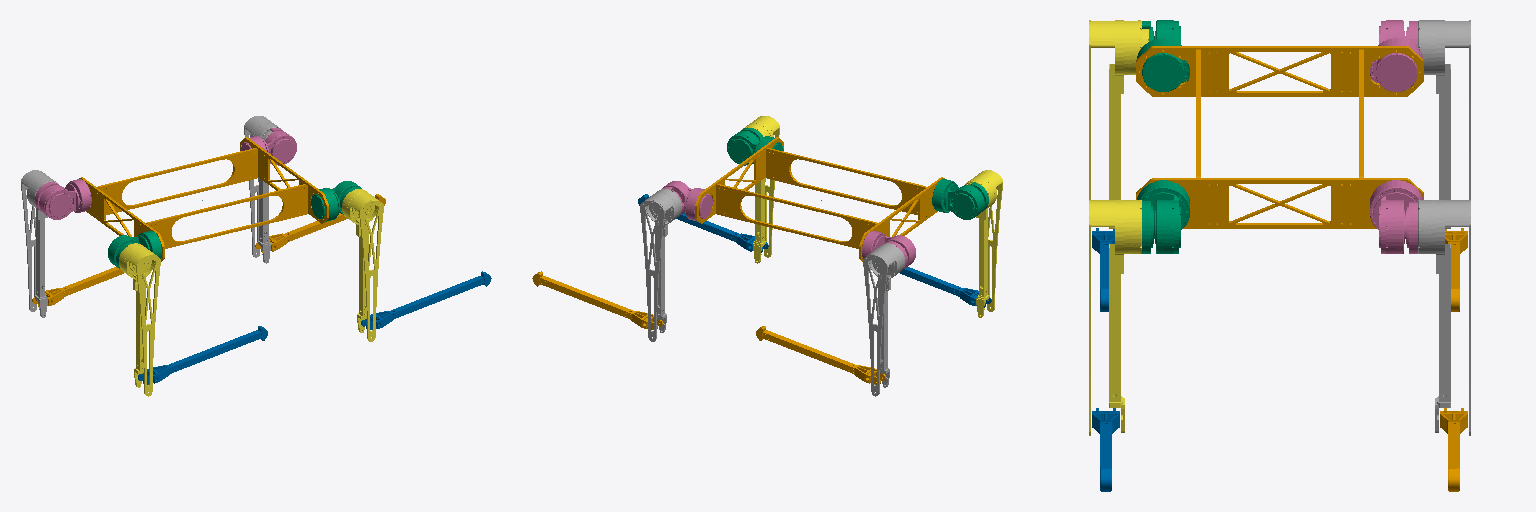
robot.urdf — arcdog:
<?xml version="1.0" ?>
<robot name="arcdog" xmlns:xacro="http://www.ros.org/wiki/xacro">
  <link name="trunk">
    <visual>
      <origin rpy="0 0 0" xyz="0 0 0"/>
      <geometry>
        <mesh filename="../meshes/trunk.stl" scale="1 1 1"/>
      </geometry>
      <material name=""/>
    </visual>
    <collision>
      <origin rpy="0 0 0" xyz="0 0 0"/>
      <geometry>
        <box size="0.752 0.413 0.2"/>
      </geometry>
    </collision>
    <inertial>
      <origin
        xyz="0 0 0"
        rpy="0 0 0" />
      <mass
        value="0.750396119433592" />
      <inertia
        ixx="0.00876892854588431"
        ixy="0"
        ixz="0"
        iyy="0.0157275456198964"
        iyz="0"
        izz="0.0229146761297559" />
    </inertial>
  </link>
  <joint name="imu_joint" type="fixed">
    <parent link="trunk"/>
    <child link="imu_link"/>
    <origin rpy="0 0 0" xyz="0 0 0"/>
  </joint>
  <link name="imu_link">
    <inertial>
      <mass value="0.001"/>
      <origin rpy="0 0 0" xyz="0 0 0"/>
      <inertia ixx="0.0001" ixy="0" ixz="0" iyy="0.000001" iyz="0" izz="0.0001"/>
    </inertial>
    <visual>
      <origin rpy="0 0 0" xyz="0 0 0"/>
      <geometry>
        <box size="0.001 0.001 0.001"/>
      </geometry>
      <material name="red"/>
    </visual>
    <collision>
      <origin rpy="0 0 0" xyz="0 0 0"/>
      <geometry>
        <box size=".001 .001 .001"/>
      </geometry>
    </collision>
  </link>
  <joint name="FR_hip_joint" type="revolute">
    <origin rpy="0 0 0" xyz="0.376 -0.2065 0"/>
    <parent link="trunk"/>
    <child link="FR_hip"/>
    <axis xyz="1 0 0"/>
    <dynamics damping="0" friction="0"/>
    <limit effort="44.4" lower="-1.2217304764" upper="1.2217304764" velocity="40"/>
  </joint>
  <link name="FR_hip">
    <visual>
      <origin rpy="0 0 0" xyz="-0.376 0.2065 0"/>
      <geometry>
        <mesh filename="../meshes/FR_hip.stl" scale="1 1 1"/>
      </geometry>
      <material name=""/>
    </visual>
    <collision>
      <origin rpy="1.57079632679 0 0" xyz="0 -0.1015 0"/>
      <geometry>
        <cylinder length="0.0418" radius="0.046"/>
      </geometry>
    </collision>
    <inertial>
      <origin rpy="0 0 0" xyz="-0.022191 -0.015144 -1.5e-05"/>
      <mass value="1.993"/>
      <inertia ixx="0.002903894" ixy="7.185e-05" ixz="-1.262e-06" iyy="0.004907517" iyz="1.75e-06" izz="0.005586944"/>
    </inertial>
  </link>
  <joint name="FR_upper_joint" type="revolute">
    <origin rpy="0 0 0" xyz="0 -0.1015 0"/>
    <parent link="FR_hip"/>
    <child link="FR_thigh"/>
    <axis xyz="0 1 0"/>
    <dynamics damping="0" friction="0"/>
    <limit effort="44.4" lower="-1.2217304764" upper="1.2217304764" velocity="40"/>
  </joint>
  <link name="FR_thigh">
    <visual>
      <origin rpy="0 0 0" xyz="-0.376 0.308 0"/>
      <geometry>
        <mesh filename="../meshes/FR_thigh.stl" scale="1 1 1"/>
      </geometry>
      <material name=""/>
    </visual>
    <collision>
      <origin rpy="0 1.57079632679 0" xyz="0 0 -0.125"/>
      <geometry>
        <box size="0.3645 0.0374 0.043"/>
      </geometry>
    </collision>
    <inertial>
      <origin rpy="0 0 0" xyz="-0.005607 0.003877 -0.048199"/>
      <mass value="0.639"/>
      <inertia ixx="0.005666803" ixy="-3.597e-06" ixz="0.000491446" iyy="0.005847229" iyz="-1.0086e-05" izz="0.000369811"/>
    </inertial>
  </link>
  <joint name="FR_lower_joint" type="revolute">
    <origin rpy="0 0 0" xyz="0 0 -0.3645"/>
    <parent link="FR_thigh"/>
    <child link="FR_calf"/>
    <axis xyz="0 1 0"/>
    <dynamics damping="0" friction="0"/>
    <limit effort="44.4" lower="-2.77507351067" upper="-0.645771823238" velocity="40"/>
  </joint>
  <link name="FR_calf">
    <visual>
      <origin rpy="0 0 0" xyz="-0.376 0.308 0.3645"/>
      <geometry>
        <mesh filename="../meshes/FR_calf.stl" scale="1 1 1"/>
      </geometry>
      <material name=""/>
    </visual>
    <collision>
      <origin rpy="0 1.57079632679 0" xyz="0 0 -0.125"/>
      <geometry>
        <box size="0.3645 0.0208 0.016"/>
      </geometry>
    </collision>
    <inertial>
      <origin rpy="0 0 0" xyz="0.002781 6.3e-05 -0.142518"/>
      <mass value="0.207"/>
      <inertia ixx="0.006341369" ixy="-3e-09" ixz="-8.7951e-05" iyy="0.006355157" iyz="-1.336e-06" izz="3.9188e-05"/>
    </inertial>
  </link>
  <joint name="FR_toe_fixed" type="fixed">
    <origin rpy="0 0 0" xyz="0 0 -0.4"/>
    <parent link="FR_calf"/>
    <child link="FR_foot"/>
  </joint>
  <link name="FR_foot">
    <visual>
      <origin rpy="0 0 0" xyz="0 0 0"/>
      <geometry>
        <sphere radius=".001"/>
      </geometry>
      <material name="green"/>
    </visual>
    <collision>
      <origin rpy="0 0 0" xyz="0 0 0"/>
      <geometry>
        <sphere radius="0.0165"/>
        <!-- <box size="0.0165 0.0165 0.0165"/> -->
      </geometry>
    </collision>
    <inertial>
      <mass value="0.06"/>
      <inertia ixx="1.6854e-05" ixy="0.0" ixz="0.0" iyy="1.6854e-05" iyz="0.0" izz="1.6854e-05"/>
    </inertial>
  </link>
  <transmission name="FR_hip_tran">
    <type>transmission_interface/SimpleTransmission</type>
    <joint name="FR_hip_joint">
      <hardwareInterface>hardware_interface/EffortJointInterface</hardwareInterface>
    </joint>
    <actuator name="FR_hip_motor">
      <hardwareInterface>hardware_interface/EffortJointInterface</hardwareInterface>
      <mechanicalReduction>1</mechanicalReduction>
    </actuator>
  </transmission>
  <transmission name="FR_thigh_tran">
    <type>transmission_interface/SimpleTransmission</type>
    <joint name="FR_upper_joint">
      <hardwareInterface>hardware_interface/EffortJointInterface</hardwareInterface>
    </joint>
    <actuator name="FR_thigh_motor">
      <hardwareInterface>hardware_interface/EffortJointInterface</hardwareInterface>
      <mechanicalReduction>1</mechanicalReduction>
    </actuator>
  </transmission>
  <transmission name="FR_calf_tran">
    <type>transmission_interface/SimpleTransmission</type>
    <joint name="FR_lower_joint">
      <hardwareInterface>hardware_interface/EffortJointInterface</hardwareInterface>
    </joint>
    <actuator name="FR_calf_motor">
      <hardwareInterface>hardware_interface/EffortJointInterface</hardwareInterface>
      <mechanicalReduction>1</mechanicalReduction>
    </actuator>
  </transmission>
  <joint name="FL_hip_joint" type="revolute">
    <origin rpy="0 0 0" xyz="0.376 0.2065 0"/>
    <parent link="trunk"/>
    <child link="FL_hip"/>
    <axis xyz="1 0 0"/>
    <dynamics damping="0" friction="0"/>
    <limit effort="44.4" lower="-1.2217304764" upper="1.2217304764" velocity="40"/>
  </joint>
  <link name="FL_hip">
    <visual>
      <origin rpy="0 0 0" xyz="-0.376 -0.2065 0"/>
      <geometry>
        <mesh filename="../meshes/FL_hip.stl" scale="1 1 1"/>
      </geometry>
      <material name=""/>
    </visual>
    <collision>
      <origin rpy="1.57079632679 0 0" xyz="0 0.1015 0"/>
      <geometry>
        <cylinder length="0.0418" radius="0.046"/>
      </geometry>
    </collision>
    <inertial>
      <origin rpy="0 0 0" xyz="-0.022191 0.015144 -1.5e-05"/>
      <mass value="1.993"/>
      <inertia ixx="0.002903894" ixy="-7.185e-05" ixz="-1.262e-06" iyy="0.004907517" iyz="-1.75e-06" izz="0.005586944"/>
    </inertial>
  </link>
  <joint name="FL_upper_joint" type="revolute">
    <origin rpy="0 0 0" xyz="0 0.1015 0"/>
    <parent link="FL_hip"/>
    <child link="FL_thigh"/>
    <axis xyz="0 1 0"/>
    <dynamics damping="0" friction="0"/>
    <limit effort="44.4" lower="-1.2217304764" upper="1.2217304764" velocity="40"/>
  </joint>
  <link name="FL_thigh">
    <visual>
      <origin rpy="0 0 0" xyz="-0.376 -0.308 0"/>
      <geometry>
        <mesh filename="../meshes/FL_thigh.stl" scale="1 1 1"/>
      </geometry>
      <material name=""/>
    </visual>
    <collision>
      <origin rpy="0 1.57079632679 0" xyz="0 0 -0.125"/>
      <geometry>
        <box size="0.3645 0.0374 0.043"/>
      </geometry>
    </collision>
    <inertial>
      <origin rpy="0 0 0" xyz="-0.005607 -0.003877 -0.048199"/>
      <mass value="0.639"/>
      <inertia ixx="0.005666803" ixy="3.597e-06" ixz="0.000491446" iyy="0.005847229" iyz="1.0086e-05" izz="0.000369811"/>
    </inertial>
  </link>
  <joint name="FL_lower_joint" type="revolute">
    <origin rpy="0 0 0" xyz="0 0 -0.3645"/>
    <parent link="FL_thigh"/>
    <child link="FL_calf"/>
    <axis xyz="0 1 0"/>
    <dynamics damping="0" friction="0"/>
    <limit effort="44.4" lower="-2.77507351067" upper="-0.645771823238" velocity="40"/>
  </joint>
  <link name="FL_calf">
    <visual>
      <origin rpy="0 0 0" xyz="-0.376 -0.308 0.3645"/>
      <geometry>
        <mesh filename="../meshes/FL_calf.stl" scale="1 1 1"/>
      </geometry>
      <material name=""/>
    </visual>
    <collision>
      <origin rpy="0 1.57079632679 0" xyz="0 0 -0.125"/>
      <geometry>
        <box size="0.3645 0.0208 0.016"/>
      </geometry>
    </collision>
    <inertial>
      <origin rpy="0 0 0" xyz="0.002781 6.3e-05 -0.142518"/>
      <mass value="0.207"/>
      <inertia ixx="0.006341369" ixy="-3e-09" ixz="-8.7951e-05" iyy="0.006355157" iyz="-1.336e-06" izz="3.9188e-05"/>
    </inertial>
  </link>
  <joint name="FL_toe_fixed" type="fixed">
    <origin rpy="0 0 0" xyz="0 0 -0.4"/>
    <parent link="FL_calf"/>
    <child link="FL_foot"/>
  </joint>
  <link name="FL_foot">
    <visual>
      <origin rpy="0 0 0" xyz="0 0 0"/>
      <geometry>
        <sphere radius=".001"/>
      </geometry>
      <material name="green"/>
    </visual>
    <collision>
      <origin rpy="0 0 0" xyz="0 0 0"/>
      <geometry>
        <sphere radius="0.0165"/>
        <!-- <box size="0.0165 0.0165 0.0165"/>         -->
      </geometry>
    </collision>
    <inertial>
      <mass value="0.06"/>
      <inertia ixx="1.6854e-05" ixy="0.0" ixz="0.0" iyy="1.6854e-05" iyz="0.0" izz="1.6854e-05"/>
    </inertial>
  </link>
  <transmission name="FL_hip_tran">
    <type>transmission_interface/SimpleTransmission</type>
    <joint name="FL_hip_joint">
      <hardwareInterface>hardware_interface/EffortJointInterface</hardwareInterface>
    </joint>
    <actuator name="FL_hip_motor">
      <hardwareInterface>hardware_interface/EffortJointInterface</hardwareInterface>
      <mechanicalReduction>1</mechanicalReduction>
    </actuator>
  </transmission>
  <transmission name="FL_thigh_tran">
    <type>transmission_interface/SimpleTransmission</type>
    <joint name="FL_upper_joint">
      <hardwareInterface>hardware_interface/EffortJointInterface</hardwareInterface>
    </joint>
    <actuator name="FL_thigh_motor">
      <hardwareInterface>hardware_interface/EffortJointInterface</hardwareInterface>
      <mechanicalReduction>1</mechanicalReduction>
    </actuator>
  </transmission>
  <transmission name="FL_calf_tran">
    <type>transmission_interface/SimpleTransmission</type>
    <joint name="FL_lower_joint">
      <hardwareInterface>hardware_interface/EffortJointInterface</hardwareInterface>
    </joint>
    <actuator name="FL_calf_motor">
      <hardwareInterface>hardware_interface/EffortJointInterface</hardwareInterface>
      <mechanicalReduction>1</mechanicalReduction>
    </actuator>
  </transmission>
  <joint name="RR_hip_joint" type="revolute">
    <origin rpy="0 0 0" xyz="-0.376 -0.2065 0"/>
    <parent link="trunk"/>
    <child link="RR_hip"/>
    <axis xyz="1 0 0"/>
    <dynamics damping="0" friction="0"/>
    <limit effort="44.4" lower="-1.2217304764" upper="1.2217304764" velocity="40"/>
  </joint>
  <link name="RR_hip">
    <visual>
      <origin rpy="0 0 0" xyz="0.376 0.2065 0"/>
      <geometry>
        <mesh filename="../meshes/RR_hip.stl" scale="1 1 1"/>
      </geometry>
      <material name=""/>
    </visual>
    <collision>
      <origin rpy="1.57079632679 0 0" xyz="0 -0.1015 0"/>
      <geometry>
        <cylinder length="0.0418" radius="0.046"/>
      </geometry>
    </collision>
    <inertial>
      <origin rpy="0 0 0" xyz="0.022191 -0.015144 -1.5e-05"/>
      <mass value="1.993"/>
      <inertia ixx="0.002903894" ixy="-7.185e-05" ixz="1.262e-06" iyy="0.004907517" iyz="1.75e-06" izz="0.005586944"/>
    </inertial>
  </link>
  <joint name="RR_upper_joint" type="revolute">
    <origin rpy="0 0 0" xyz="0 -0.1015 0"/>
    <parent link="RR_hip"/>
    <child link="RR_thigh"/>
    <axis xyz="0 1 0"/>
    <dynamics damping="0" friction="0"/>
    <limit effort="44.4" velocity="40" lower="-1.2217304764" upper="1.2217304764"/>
  </joint>
  <link name="RR_thigh">
    <visual>
      <origin rpy="0 0 0" xyz="0.376 0.308 0"/>
      <geometry>
        <mesh filename="../meshes/RR_thigh.stl" scale="1 1 1"/>
      </geometry>
      <material name=""/>
    </visual>
    <collision>
      <origin rpy="0 1.57079632679 0" xyz="0 0 -0.125"/>
      <geometry>
        <box size="0.3645 0.0374 0.043"/>
      </geometry>
    </collision>
    <inertial>
      <origin rpy="0 0 0" xyz="-0.005607 0.003877 -0.048199"/>
      <mass value="0.639"/>
      <inertia ixx="0.005666803" ixy="-3.597e-06" ixz="0.000491446" iyy="0.005847229" iyz="-1.0086e-05" izz="0.000369811"/>
    </inertial>
  </link>
  <joint name="RR_lower_joint" type="revolute">
    <origin rpy="0 0 0" xyz="0 0 -0.3645"/>
    <parent link="RR_thigh"/>
    <child link="RR_calf"/>
    <axis xyz="0 1 0"/>
    <dynamics damping="0" friction="0"/>
    <limit effort="44.4" lower="-2.77507351067" upper="-0.645771823238" velocity="40"/>
  </joint>
  <link name="RR_calf">
    <visual>
      <origin rpy="0 0 0" xyz="0.376 0.308 0.3645"/>
      <geometry>
        <mesh filename="../meshes/RR_calf.stl" scale="1 1 1"/>
      </geometry>
      <material name=""/>
    </visual>
    <collision>
      <origin rpy="0 1.57079632679 0" xyz="0 0 -0.125"/>
      <geometry>
        <box size="0.3645 0.0208 0.016"/>
      </geometry>
    </collision>
    <inertial>
      <origin rpy="0 0 0" xyz="0.002781 6.3e-05 -0.142518"/>
      <mass value="0.207"/>
      <inertia ixx="0.006341369" ixy="-3e-09" ixz="-8.7951e-05" iyy="0.006355157" iyz="-1.336e-06" izz="3.9188e-05"/>
    </inertial>
  </link>
  <joint name="RR_toe_fixed" type="fixed">
    <origin rpy="0 0 0" xyz="0 0 -0.4"/>
    <parent link="RR_calf"/>
    <child link="RR_foot"/>
  </joint>
  <link name="RR_foot">
    <visual>
      <origin rpy="0 0 0" xyz="0 0 0"/>
      <geometry>
        <sphere radius=".001"/>
      </geometry>
      <material name="green"/>
    </visual>
    <collision>
      <origin rpy="0 0 0" xyz="0 0 0"/>
      <geometry>
        <sphere radius="0.0165"/>
        <!-- <box size="0.0165 0.0165 0.0165"/>         -->
      </geometry>
    </collision>
    <inertial>
      <mass value="0.06"/>
      <inertia ixx="1.6854e-05" ixy="0.0" ixz="0.0" iyy="1.6854e-05" iyz="0.0" izz="1.6854e-05"/>
    </inertial>
  </link>
  <transmission name="RR_hip_tran">
    <type>transmission_interface/SimpleTransmission</type>
    <joint name="RR_hip_joint">
      <hardwareInterface>hardware_interface/EffortJointInterface</hardwareInterface>
    </joint>
    <actuator name="RR_hip_motor">
      <hardwareInterface>hardware_interface/EffortJointInterface</hardwareInterface>
      <mechanicalReduction>1</mechanicalReduction>
    </actuator>
  </transmission>
  <transmission name="RR_thigh_tran">
    <type>transmission_interface/SimpleTransmission</type>
    <joint name="RR_upper_joint">
      <hardwareInterface>hardware_interface/EffortJointInterface</hardwareInterface>
    </joint>
    <actuator name="RR_thigh_motor">
      <hardwareInterface>hardware_interface/EffortJointInterface</hardwareInterface>
      <mechanicalReduction>1</mechanicalReduction>
    </actuator>
  </transmission>
  <transmission name="RR_calf_tran">
    <type>transmission_interface/SimpleTransmission</type>
    <joint name="RR_lower_joint">
      <hardwareInterface>hardware_interface/EffortJointInterface</hardwareInterface>
    </joint>
    <actuator name="RR_calf_motor">
      <hardwareInterface>hardware_interface/EffortJointInterface</hardwareInterface>
      <mechanicalReduction>1</mechanicalReduction>
    </actuator>
  </transmission>
  <joint name="RL_hip_joint" type="revolute">
    <origin rpy="0 0 0" xyz="-0.376 0.2065 0"/>
    <parent link="trunk"/>
    <child link="RL_hip"/>
    <axis xyz="1 0 0"/>
    <dynamics damping="0" friction="0"/>
    <limit effort="44.4" lower="-1.2217304764" upper="1.2217304764" velocity="40"/>
  </joint>
  <link name="RL_hip">
    <visual>
      <origin rpy="0 0 0" xyz="0.376 -0.2065 0"/>
      <geometry>
        <mesh filename="../meshes/RL_hip.stl" scale="1 1 1"/>
      </geometry>
      <material name=""/>
    </visual>
    <collision>
      <origin rpy="1.57079632679 0 0" xyz="0 0.1015 0"/>
      <geometry>
        <cylinder length="0.0418" radius="0.046"/>
      </geometry>
    </collision>
    <inertial>
      <origin rpy="0 0 0" xyz="0.022191 0.015144 -1.5e-05"/>
      <mass value="1.993"/>
      <inertia ixx="0.002903894" ixy="7.185e-05" ixz="1.262e-06" iyy="0.004907517" iyz="-1.75e-06" izz="0.005586944"/>
    </inertial>
  </link>
  <joint name="RL_upper_joint" type="revolute">
    <origin rpy="0 0 0" xyz="0 0.1015 0"/>
    <parent link="RL_hip"/>
    <child link="RL_thigh"/>
    <axis xyz="0 1 0"/>
    <dynamics damping="0" friction="0"/>
    <limit effort="44.4" lower="-1.2217304764" upper="1.2217304764" velocity="40"/>
  </joint>
  <link name="RL_thigh">
    <visual>
      <origin rpy="0 0 0" xyz="0.376 -0.308 0"/>
      <geometry>
        <mesh filename="../meshes/RL_thigh.stl" scale="1 1 1"/>
      </geometry>
      <material name=""/>
    </visual>
    <collision>
      <origin rpy="0 1.57079632679 0" xyz="0 0 -0.125"/>
      <geometry>
        <box size="0.3645 0.0374 0.043"/>
      </geometry>
    </collision>
    <inertial>
      <origin rpy="0 0 0" xyz="-0.005607 -0.003877 -0.048199"/>
      <mass value="0.639"/>
      <inertia ixx="0.005666803" ixy="3.597e-06" ixz="0.000491446" iyy="0.005847229" iyz="1.0086e-05" izz="0.000369811"/>
    </inertial>
  </link>
  <joint name="RL_lower_joint" type="revolute">
    <origin rpy="0 0 0" xyz="0 0 -0.3645"/>
    <parent link="RL_thigh"/>
    <child link="RL_calf"/>
    <axis xyz="0 1 0"/>
    <dynamics damping="0" friction="0"/>
    <limit effort="44.4" lower="-2.77507351067" upper="-0.645771823238" velocity="40"/>
  </joint>
  <link name="RL_calf">
    <visual>
      <origin rpy="0 0 0" xyz="0.376 -0.308 0.3645"/>
      <geometry>
        <mesh filename="../meshes/RL_calf.stl" scale="1 1 1"/>
      </geometry>
      <material name=""/>
    </visual>
    <collision>
      <origin rpy="0 1.57079632679 0" xyz="0 0 -0.125"/>
      <geometry>
        <box size="0.3645 0.0208 0.016"/>
      </geometry>
    </collision>
    <inertial>
      <origin rpy="0 0 0" xyz="0.002781 6.3e-05 -0.142518"/>
      <mass value="0.207"/>
      <inertia ixx="0.006341369" ixy="-3e-09" ixz="-8.7951e-05" iyy="0.006355157" iyz="-1.336e-06" izz="3.9188e-05"/>
    </inertial>
  </link>
  <joint name="RL_toe_fixed" type="fixed">
    <origin rpy="0 0 0" xyz="0 0 -0.4"/>
    <parent link="RL_calf"/>
    <child link="RL_foot"/>
  </joint>
  <link name="RL_foot">
    <visual>
      <origin rpy="0 0 0" xyz="0 0 0"/>
      <geometry>
        <sphere radius=".001"/>
      </geometry>
      <material name="green"/>
    </visual>
    <collision>
      <origin rpy="0 0 0" xyz="0 0 0"/>
      <geometry>
        <sphere radius="0.0165"/>
        <!-- <box size="0.0165 0.0165 0.0165"/> -->

      </geometry>
    </collision>
    <inertial>
      <mass value="0.06"/>
      <inertia ixx="1.6854e-05" ixy="0.0" ixz="0.0" iyy="1.6854e-05" iyz="0.0" izz="1.6854e-05"/>
    </inertial>
  </link>
  <transmission name="RL_hip_tran">
    <type>transmission_interface/SimpleTransmission</type>
    <joint name="RL_hip_joint">
      <hardwareInterface>hardware_interface/EffortJointInterface</hardwareInterface>
    </joint>
    <actuator name="RL_hip_motor">
      <hardwareInterface>hardware_interface/EffortJointInterface</hardwareInterface>
      <mechanicalReduction>1</mechanicalReduction>
    </actuator>
  </transmission>
  <transmission name="RL_thigh_tran">
    <type>transmission_interface/SimpleTransmission</type>
    <joint name="RL_upper_joint">
      <hardwareInterface>hardware_interface/EffortJointInterface</hardwareInterface>
    </joint>
    <actuator name="RL_thigh_motor">
      <hardwareInterface>hardware_interface/EffortJointInterface</hardwareInterface>
      <mechanicalReduction>1</mechanicalReduction>
    </actuator>
  </transmission>
  <transmission name="RL_calf_tran">
    <type>transmission_interface/SimpleTransmission</type>
    <joint name="RL_lower_joint">
      <hardwareInterface>hardware_interface/EffortJointInterface</hardwareInterface>
    </joint>
    <actuator name="RL_calf_motor">
      <hardwareInterface>hardware_interface/EffortJointInterface</hardwareInterface>
      <mechanicalReduction>1</mechanicalReduction>
    </actuator>
  </transmission>
</robot>

--- Render facts (derived) ---
3 views of the same robot in one strip: view 1: azimuth 30°, elevation 25°; view 2: azimuth 150°, elevation 25°; view 3: azimuth 270°, elevation 25° (orthographic).
Robot: arcdog — 18 links, 17 joints (12 revolute, 5 fixed); root link trunk; default pose: all joints at 0 but 4 set to mid-range because 0 is outside their limits (FR_lower_joint = -1.71, FL_lower_joint = -1.71, RR_lower_joint = -1.71, RL_lower_joint = -1.71).
Links seen in each view (by area): view 1: trunk, RR_thigh, FR_thigh, RL_thigh, RL_hip, FL_thigh, FR_calf, RR_calf, FL_hip, FR_hip, RR_hip, RL_calf (+1 smaller); view 2: trunk, FL_thigh, RL_thigh, RR_thigh, RR_hip, FR_thigh, RL_calf, FL_calf, FR_hip, FL_hip, RL_hip, RR_calf (+1 smaller); view 3: trunk, FR_thigh, FL_thigh, RR_thigh, RL_thigh, FL_hip, FR_hip, RL_hip, RR_hip, FR_calf, FL_calf, RR_calf (+1 smaller).
Link boxes in pixels (x1,y1,x2,y2): trunk: (79, 137, 328, 261); RR_thigh: (119, 243, 160, 396); FR_thigh: (342, 189, 383, 341); RL_thigh: (21, 170, 56, 317); RL_hip: (35, 179, 91, 219); FL_thigh: (244, 116, 281, 263); FR_calf: (361, 271, 491, 329); RR_calf: (138, 326, 267, 384); FL_hip: (240, 128, 296, 165); FR_hip: (311, 181, 361, 221); RR_hip: (108, 231, 161, 268); RL_calf: (32, 267, 123, 307); trunk: (695, 137, 944, 261); FL_thigh: (640, 189, 681, 341); RL_thigh: (863, 243, 904, 396); RR_thigh: (965, 170, 1002, 317); RR_hip: (932, 179, 988, 219); FR_thigh: (742, 116, 779, 263); RL_calf: (756, 326, 885, 384); FL_calf: (532, 271, 662, 329); FR_hip: (727, 128, 783, 165); FL_hip: (662, 181, 712, 221); RL_hip: (862, 231, 915, 268); RR_calf: (900, 267, 991, 307); trunk: (1136, 46, 1423, 228); FR_thigh: (1089, 200, 1141, 435); FL_thigh: (1418, 200, 1470, 435); RR_thigh: (1089, 20, 1148, 228); RL_thigh: (1418, 20, 1470, 228); FL_hip: (1370, 180, 1422, 253); FR_hip: (1137, 180, 1189, 253); RL_hip: (1370, 20, 1422, 91); RR_hip: (1137, 20, 1189, 91); FR_calf: (1092, 408, 1119, 491); FL_calf: (1440, 408, 1467, 491); RR_calf: (1092, 228, 1114, 311).
Bounding box of the posed robot: 1.22 × 0.678 × 0.455 m (x, y, z).
Meshes: 13 distinct files referenced, 13 mesh visuals loaded (13 binary STL).